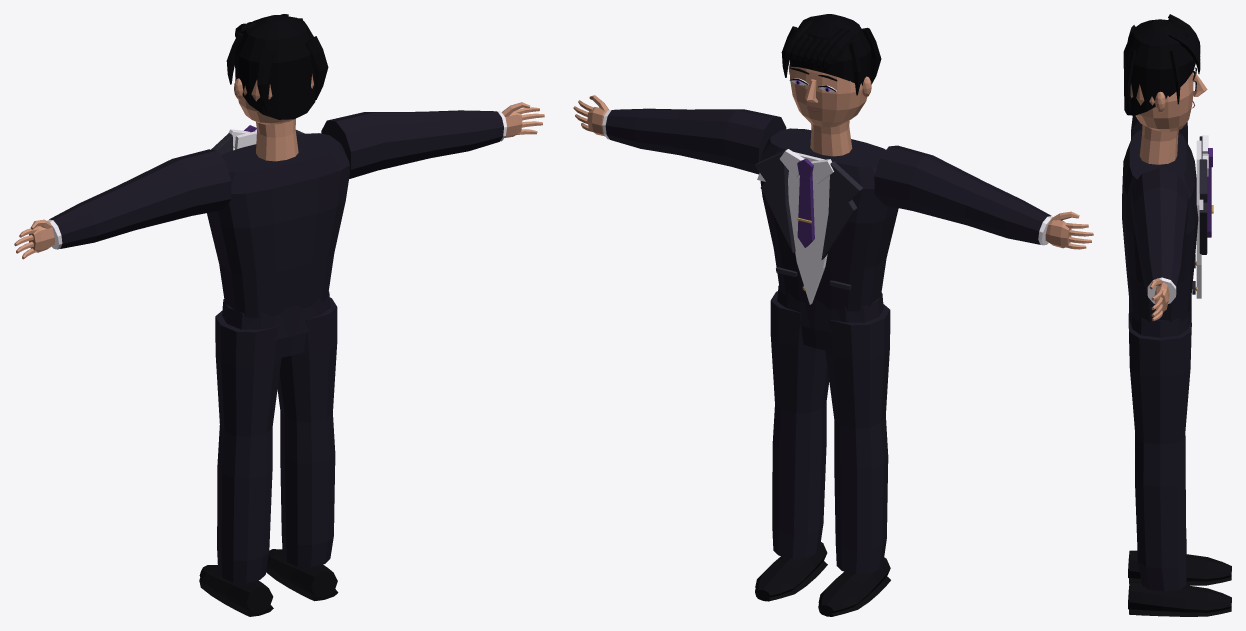
Rendered from character.glb.
The picture shows the model from 3 angles, left to right: view 1: azimuth 30°, elevation 25°; view 2: azimuth 150°, elevation 25°; view 3: azimuth 270°, elevation 25°; orthographic projection.
Parts seen in each view (by area): view 1: Jacket_Tailored_Torso, Trouser_Leg_L, Trouser_Leg_R, Sleeve_Continuous_L, Sleeve_Continuous_R, Hair_Scalp_Cap, Pelvis_Trouser_Loft, Shoe_Last_L, Shoe_Last_R, Neck_Loft, Hair_Back_Lock_R, Head_Anatomical_Loft (+1 smaller); view 2: Trouser_Leg_L, Trouser_Leg_R, Jacket_Tailored_Torso, Sleeve_Continuous_L, Sleeve_Continuous_R, Shirt_Shaped_Front, Head_Anatomical_Loft, Hair_Scalp_Cap, Shoe_Last_R, Lapel_Notched_L, Shoe_Last_L, Lapel_Notched_R (+3 smaller); view 3: Trouser_Leg_R, Jacket_Tailored_Torso, Sleeve_Continuous_R, Hair_Scalp_Cap, Shoe_Last_R, Head_Anatomical_Loft, Shoe_Last_L, Neck_Loft, Pelvis_Trouser_Loft, Lapel_Notched_R, Shirt_Shaped_Front, Shoe_Sole_R (+10 smaller).
Boxes of the visible parts, x1,y1,x2,y2 form: Jacket_Tailored_Torso: (207,133,349,340); Trouser_Leg_L: (215,311,281,583); Trouser_Leg_R: (277,297,337,567); Sleeve_Continuous_L: (49,149,231,248); Sleeve_Continuous_R: (321,110,503,178); Hair_Scalp_Cap: (235,15,315,119); Pelvis_Trouser_Loft: (222,291,330,358); Shoe_Last_L: (199,565,273,613); Shoe_Last_R: (267,549,337,597); Neck_Loft: (256,118,298,161); Hair_Back_Lock_R: (305,36,328,99); Head_Anatomical_Loft: (235,74,313,124); Trouser_Leg_L: (825,304,890,574); Trouser_Leg_R: (770,291,829,558); Jacket_Tailored_Torso: (760,128,898,332); Sleeve_Continuous_L: (874,145,1051,244); Sleeve_Continuous_R: (605,108,786,174); Shirt_Shaped_Front: (788,152,829,304); Head_Anatomical_Loft: (790,67,867,127); Hair_Scalp_Cap: (790,14,871,85); Shoe_Last_R: (755,542,827,597); Lapel_Notched_L: (821,161,863,259); Shoe_Last_L: (818,557,890,613); Lapel_Notched_R: (755,150,795,253); Trouser_Leg_R: (1129,320,1191,591); Jacket_Tailored_Torso: (1122,130,1198,333); Sleeve_Continuous_R: (1131,168,1187,294); Hair_Scalp_Cap: (1123,19,1195,115); Shoe_Last_R: (1128,582,1231,612); Head_Anatomical_Loft: (1130,72,1193,131); Shoe_Last_L: (1128,550,1231,581); Neck_Loft: (1139,125,1178,164); Pelvis_Trouser_Loft: (1128,300,1191,337); Lapel_Notched_R: (1199,159,1207,254); Shirt_Shaped_Front: (1196,140,1201,298); Shoe_Sole_R: (1129,608,1231,616).
Bounding box in the file's own units: 1.74 × 1.81 × 0.3156.
